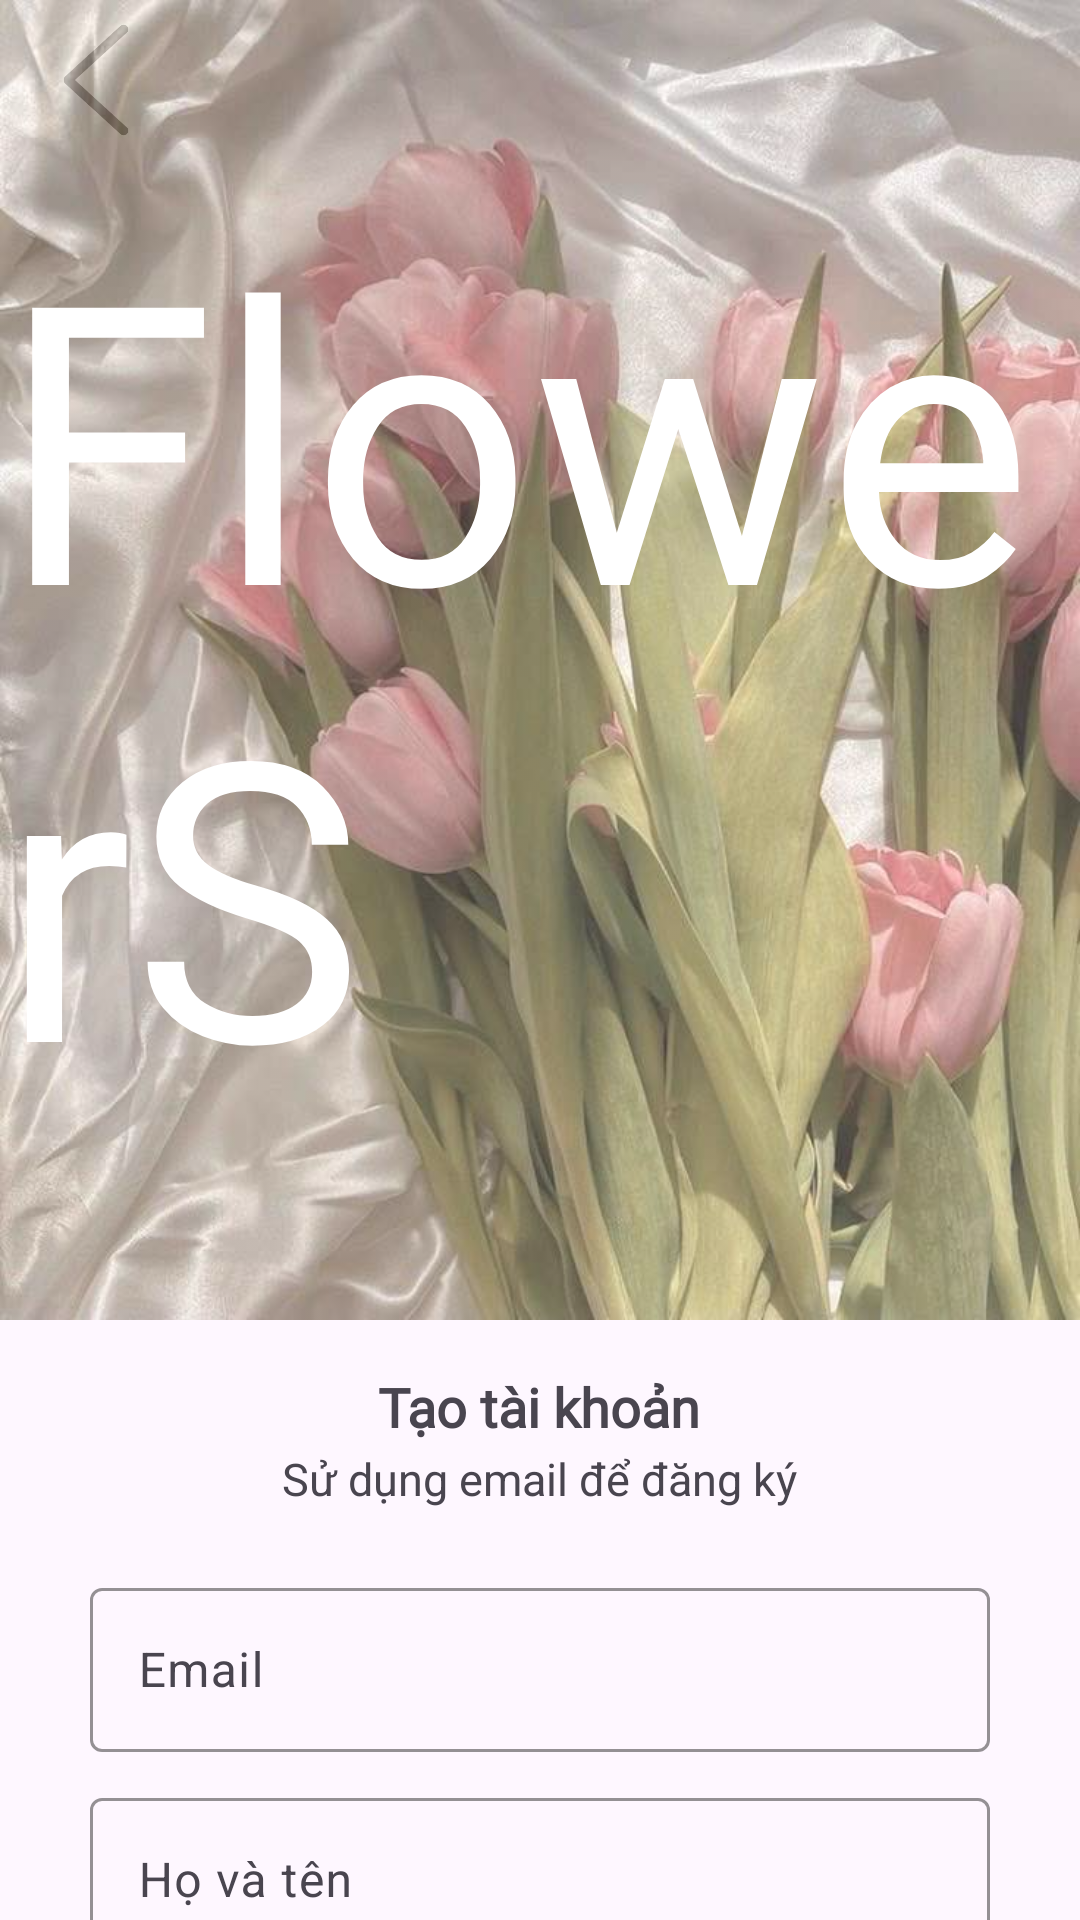

Named icons in this screenshot (1080*1920) and their centers, (x,y):
btnback: (96,80)
